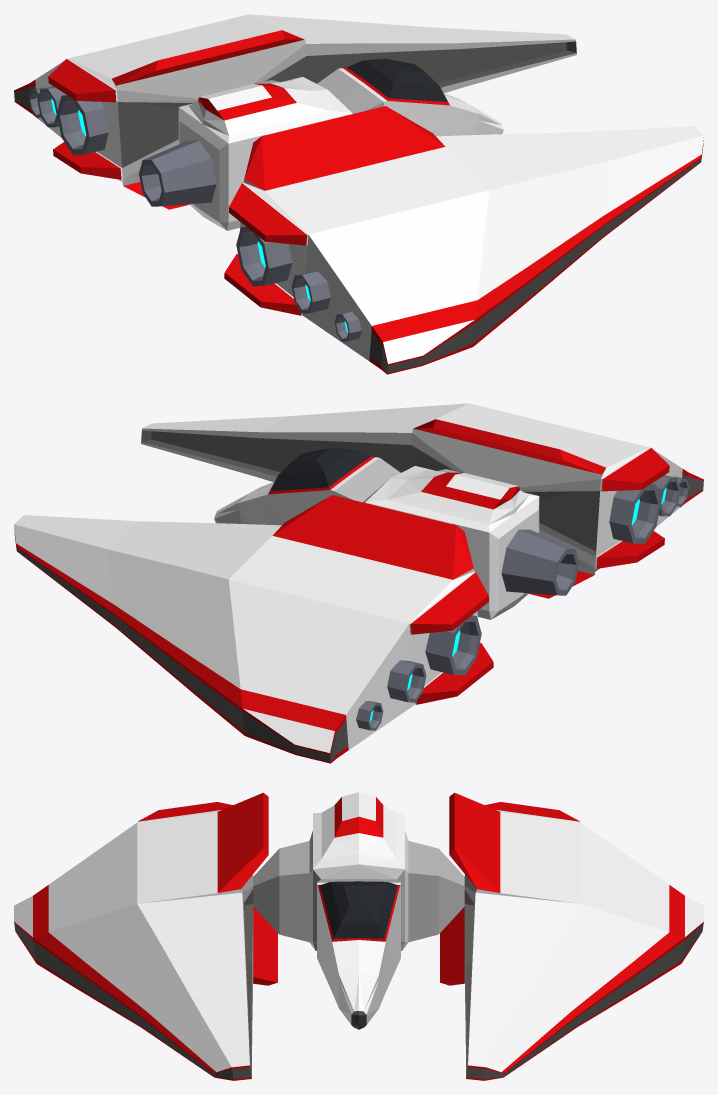
File: SpaceShip1.glb
The picture shows the model from 3 angles, top to bottom: view 1: azimuth 30°, elevation 25°; view 2: azimuth 150°, elevation 25°; view 3: azimuth 270°, elevation 25°; orthographic projection. The views are drawn at different scales.
Parts seen in each view (by area): view 1: Spaceship1-Main, Spacehsip1-exhastStart, Spaceship1-exhastCenter, Spaceship1-exhastMiddle, Spaceship1-exhastEnd; view 2: Spaceship1-Main, Spacehsip1-exhastStart, Spaceship1-exhastCenter, Spaceship1-exhastMiddle, Spaceship1-exhastEnd; view 3: Spaceship1-Main.
Boxes of the visible parts, bbox=[...] form: Spaceship1-Main: bbox=[14, 14, 703, 374]; Spacehsip1-exhastStart: bbox=[56, 94, 292, 286]; Spaceship1-exhastCenter: bbox=[139, 140, 216, 206]; Spaceship1-exhastMiddle: bbox=[37, 86, 330, 313]; Spaceship1-exhastEnd: bbox=[28, 87, 361, 341]; Spaceship1-Main: bbox=[14, 403, 703, 763]; Spacehsip1-exhastStart: bbox=[425, 483, 661, 675]; Spaceship1-exhastCenter: bbox=[501, 529, 578, 595]; Spaceship1-exhastMiddle: bbox=[387, 475, 680, 702]; Spaceship1-exhastEnd: bbox=[356, 476, 689, 730]; Spaceship1-Main: bbox=[14, 792, 703, 1080].
Size of the model in its own units: 11.17 by 3.26 by 14.97.
